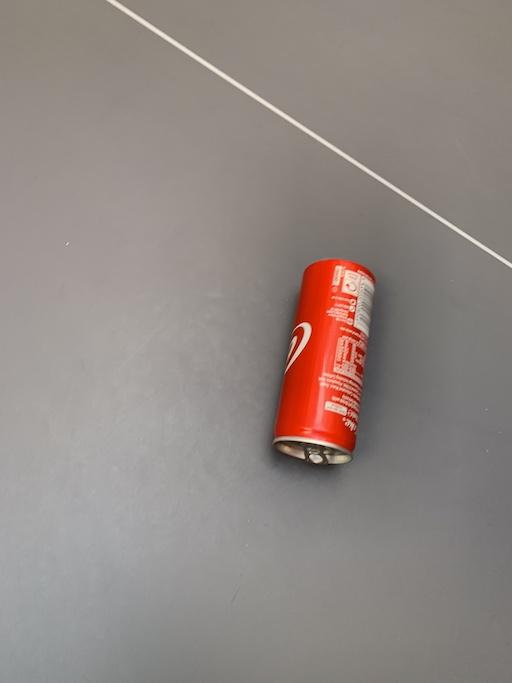Aluminum can: (261, 239, 410, 482)
